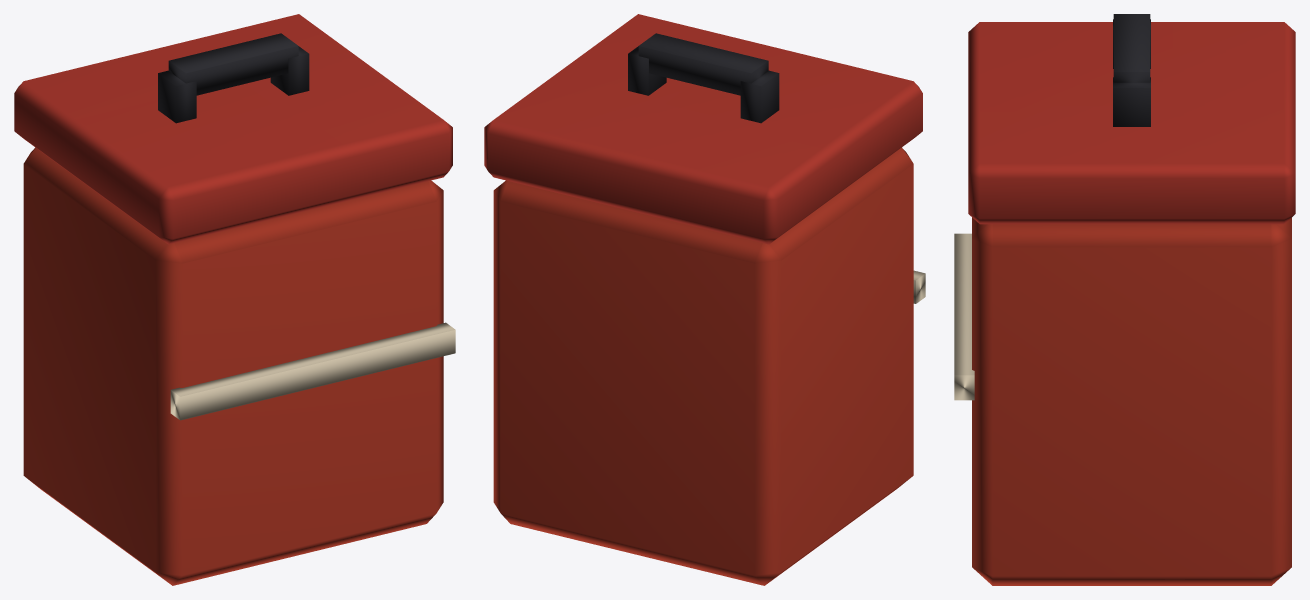
Rendered from cargo_toolbox.glb.
3 views of the same model, side by side, from view 1: azimuth 30°, elevation 25°; view 2: azimuth 150°, elevation 25°; view 3: azimuth 270°, elevation 25° (orthographic). The views are drawn at different scales.
Parts seen in each view (by area): view 1: Red tool chest, Painted lid; view 2: Red tool chest, Painted lid; view 3: Red tool chest, Painted lid.
Boxes of the visible parts, x1,y1,x2,y2 form: Red tool chest: (23,147,455,585); Painted lid: (14,14,452,244); Red tool chest: (493,147,925,585); Painted lid: (484,14,922,244); Red tool chest: (954,217,1291,585); Painted lid: (968,14,1295,224).
Size of the model in its own units: 0.47 by 0.692 by 0.4485.
